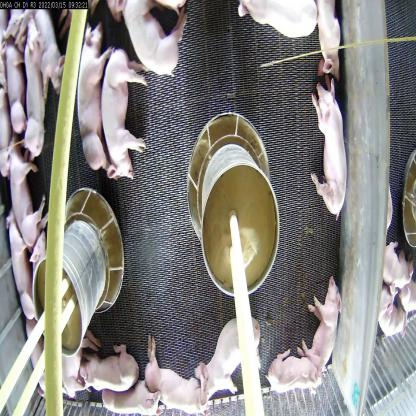Pig: (68, 24, 118, 176), (190, 312, 265, 404), (135, 328, 212, 415), (97, 51, 146, 186), (2, 148, 57, 263), (114, 0, 192, 80), (309, 71, 346, 226), (74, 331, 143, 398), (6, 217, 42, 344), (21, 13, 47, 173), (230, 0, 316, 44), (263, 344, 328, 401), (306, 275, 344, 372), (99, 386, 156, 416)
